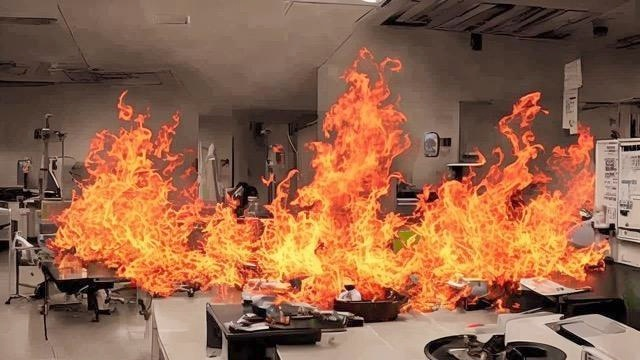fire: (36, 68, 613, 301)
